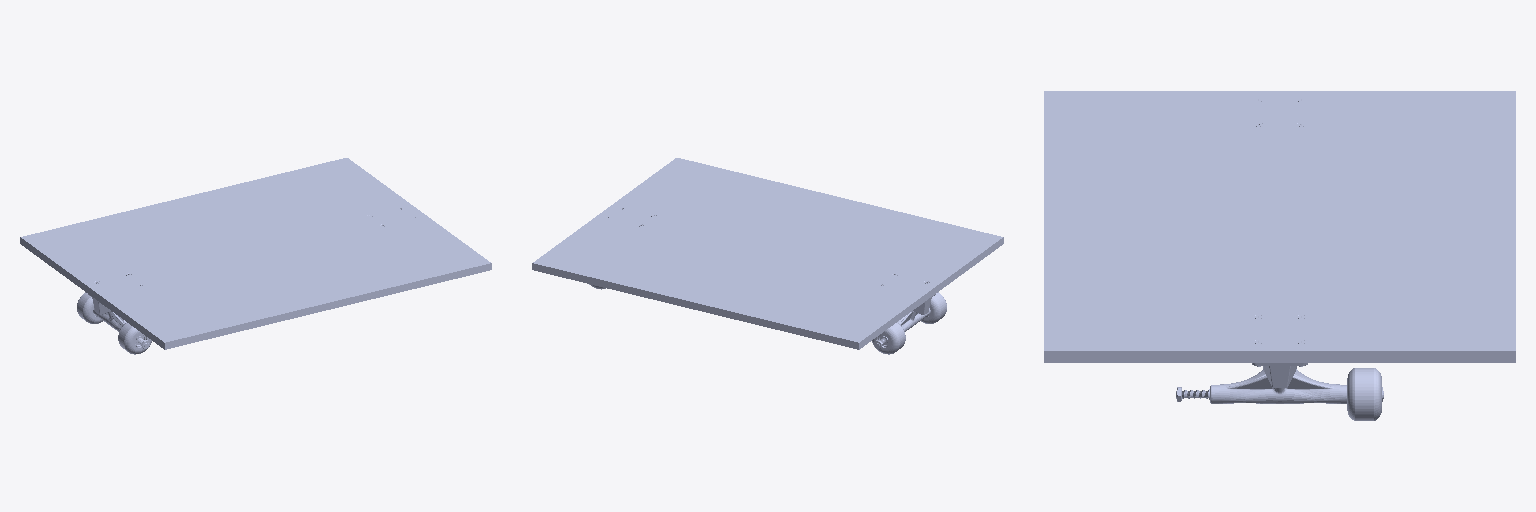
URDF robot description (Skateboard):
<?xml version="1.0" encoding="utf-8"?>
<!-- This URDF was automatically created by SolidWorks to URDF Exporter! Originally created by [author] ([email redacted]) 
     Commit Version: 1.6.0-4-g7f85cfe  Build Version: 1.6.7995.38578
     For more information, please see http://wiki.ros.org/sw_urdf_exporter -->
<robot
  name="Skateboard">
  <link
    name="base_link">
    <inertial>
      <origin
        xyz="-3.90900970040696E-07 1.65554556660567E-08 0.0803398063222811"
        rpy="0 0 0" />
      <mass
        value="1.87355927123978" />
      <inertia
        ixx="0.00903114129612671"
        ixy="-1.58213084430304E-08"
        ixz="-4.399022323366E-09"
        iyy="0.0474941673494156"
        iyz="1.8618547459719E-10"
        izz="0.0564670480761005" />
    </inertial>
    <visual>
      <origin
        xyz="0 0 0"
        rpy="0 0 0" />
      <geometry>
        <mesh
          filename="package://Skateboard/meshes/base_link.STL" />
      </geometry>
      <material
        name="">
        <color
          rgba="0.792156862745098 0.819607843137255 0.933333333333333 1" />
      </material>
    </visual>
    <collision>
      <origin
        xyz="0 0 0"
        rpy="0 0 0" />
      <geometry>
        <mesh
          filename="package://Skateboard/meshes/base_link.STL" />
      </geometry>
    </collision>
  </link>
  <link
    name="tr0">
    <inertial>
      <origin
        xyz="-0.00394785875464684 1.37510124957975E-05 0.00254298733552262"
        rpy="0 0 0" />
      <mass
        value="0.054711382215971" />
      <inertia
        ixx="7.61776062793999E-05"
        ixy="4.24208360983496E-09"
        ixz="-1.67941899830751E-07"
        iyy="6.50792133855701E-06"
        iyz="3.53198528592784E-09"
        izz="7.70651806985149E-05" />
    </inertial>
    <visual>
      <origin
        xyz="0 0 0"
        rpy="0 0 0" />
      <geometry>
        <mesh
          filename="package://Skateboard/meshes/tr0.STL" />
      </geometry>
      <material
        name="">
        <color
          rgba="0.792156862745098 0.819607843137255 0.933333333333333 1" />
      </material>
    </visual>
    <collision>
      <origin
        xyz="0 0 0"
        rpy="0 0 0" />
      <geometry>
        <mesh
          filename="package://Skateboard/meshes/tr0.STL" />
      </geometry>
    </collision>
  </link>
  <joint
    name="trj0"
    type="revolute">
    <origin
      xyz="0.248451238407881 0 0.0249999999999996"
      rpy="0 0.380444263902653 0" />
    <parent
      link="base_link" />
    <child
      link="tr0" />
    <axis
      xyz="0 0 -1" />
    <limit
      lower="-0.227799"
      upper="0.227799"
      effort="0"
      velocity="0" />
  </joint>
  <link
    name="wh0">
    <inertial>
      <origin
        xyz="0 -3.7470027081099E-16 -6.24847396046846E-15"
        rpy="0 0 0" />
      <mass
        value="0.0490782123073816" />
      <inertia
        ixx="1.14097578389298E-05"
        ixy="-2.95578023787108E-23"
        ixz="5.51817720020061E-24"
        iyy="1.63120870051882E-05"
        iyz="5.05450120212838E-22"
        izz="1.14097578389298E-05" />
    </inertial>
    <visual>
      <origin
        xyz="0 0 0"
        rpy="0 0 0" />
      <geometry>
        <mesh
          filename="package://Skateboard/meshes/wh0.STL" />
      </geometry>
      <material
        name="">
        <color
          rgba="0.792156862745098 0.819607843137255 0.933333333333333 1" />
      </material>
    </visual>
    <collision>
      <origin
        xyz="0 0 0"
        rpy="0 0 0" />
      <geometry>
        <mesh
          filename="package://Skateboard/meshes/wh0.STL" />
      </geometry>
    </collision>
  </link>
  <joint
    name="whj0"
    type="continuous">
    <origin
      xyz="0 -0.079 0"
      rpy="-3.1416 -0.38044 0" />
    <parent
      link="tr0" />
    <child
      link="wh0" />
    <axis
      xyz="0 -1 0" />
  </joint>
  <link
    name="wh1">
    <inertial>
      <origin
        xyz="0 -4.16333634234434E-16 -6.21377949094892E-15"
        rpy="0 0 0" />
      <mass
        value="0.0490782123073816" />
      <inertia
        ixx="1.14097578389298E-05"
        ixy="-2.95578023787108E-23"
        ixz="5.50508017383537E-24"
        iyy="1.63120870051882E-05"
        iyz="5.04008068678283E-22"
        izz="1.14097578389298E-05" />
    </inertial>
    <visual>
      <origin
        xyz="0 0 0"
        rpy="0 0 0" />
      <geometry>
        <mesh
          filename="package://Skateboard/meshes/wh1.STL" />
      </geometry>
      <material
        name="">
        <color
          rgba="0.792156862745098 0.819607843137255 0.933333333333333 1" />
      </material>
    </visual>
    <collision>
      <origin
        xyz="0 0 0"
        rpy="0 0 0" />
      <geometry>
        <mesh
          filename="package://Skateboard/meshes/wh1.STL" />
      </geometry>
    </collision>
  </link>
  <joint
    name="whj1"
    type="continuous">
    <origin
      xyz="0 0.079 0"
      rpy="-3.1416 -0.38044 0" />
    <parent
      link="tr0" />
    <child
      link="wh1" />
    <axis
      xyz="0 -1 0" />
  </joint>
  <link
    name="tr1">
    <inertial>
      <origin
        xyz="-0.00394785564541764 1.37474025140887E-05 0.0025429982740449"
        rpy="0 0 0" />
      <mass
        value="0.0547113523962588" />
      <inertia
        ixx="7.61776015347802E-05"
        ixy="4.24279245655275E-09"
        ixz="-1.67936058589737E-07"
        iyy="6.50790703894931E-06"
        iyz="3.5340498258754E-09"
        izz="7.70651635533687E-05" />
    </inertial>
    <visual>
      <origin
        xyz="0 0 0"
        rpy="0 0 0" />
      <geometry>
        <mesh
          filename="package://Skateboard/meshes/tr1.STL" />
      </geometry>
      <material
        name="">
        <color
          rgba="0.792156862745098 0.819607843137255 0.933333333333333 1" />
      </material>
    </visual>
    <collision>
      <origin
        xyz="0 0 0"
        rpy="0 0 0" />
      <geometry>
        <mesh
          filename="package://Skateboard/meshes/tr1.STL" />
      </geometry>
    </collision>
  </link>
  <joint
    name="trj1"
    type="revolute">
    <origin
      xyz="-0.248451238407882 0 0.025"
      rpy="0 0.380444263902653 3.14159265358979" />
    <parent
      link="base_link" />
    <child
      link="tr1" />
    <axis
      xyz="0 0 -1" />
    <limit
      lower="-0.227799"
      upper="0.227799"
      effort="0"
      velocity="0" />
  </joint>
  <link
    name="wh2">
    <inertial>
      <origin
        xyz="2.13717932240343E-15 0.0159999999999954 8.67361737988404E-17"
        rpy="0 0 0" />
      <mass
        value="0.0490782123073816" />
      <inertia
        ixx="1.14097578389298E-05"
        ixy="-2.91712946886286E-23"
        ixz="-8.02234876879247E-23"
        iyy="1.63120870051882E-05"
        iyz="5.04019026293652E-22"
        izz="1.14097578389298E-05" />
    </inertial>
    <visual>
      <origin
        xyz="0 0 0"
        rpy="0 0 0" />
      <geometry>
        <mesh
          filename="package://Skateboard/meshes/wh2.STL" />
      </geometry>
      <material
        name="">
        <color
          rgba="0.792156862745098 0.819607843137255 0.933333333333333 1" />
      </material>
    </visual>
    <collision>
      <origin
        xyz="0 0 0"
        rpy="0 0 0" />
      <geometry>
        <mesh
          filename="package://Skateboard/meshes/wh2.STL" />
      </geometry>
    </collision>
  </link>
  <joint
    name="whj2"
    type="continuous">
    <origin
      xyz="0 0.063 0"
      rpy="3.1416 0.38044 3.1416" />
    <parent
      link="tr1" />
    <child
      link="wh2" />
    <axis
      xyz="0 -1 0" />
  </joint>
  <link
    name="wh3">
    <inertial>
      <origin
        xyz="2.4980018054066E-15 -0.0160000000000055 4.1286418728248E-16"
        rpy="0 0 0" />
      <mass
        value="0.0490782123073816" />
      <inertia
        ixx="1.14097578389298E-05"
        ixy="4.15744681797579E-22"
        ixz="-1.28506924098295E-23"
        iyy="1.63120870051882E-05"
        iyz="-1.51826352916935E-20"
        izz="1.14097578389298E-05" />
    </inertial>
    <visual>
      <origin
        xyz="0 0 0"
        rpy="0 0 0" />
      <geometry>
        <mesh
          filename="package://Skateboard/meshes/wh3.STL" />
      </geometry>
      <material
        name="">
        <color
          rgba="0.792156862745098 0.819607843137255 0.933333333333333 1" />
      </material>
    </visual>
    <collision>
      <origin
        xyz="0 0 0"
        rpy="0 0 0" />
      <geometry>
        <mesh
          filename="package://Skateboard/meshes/wh3.STL" />
      </geometry>
    </collision>
  </link>
  <joint
    name="whj3"
    type="continuous">
    <origin
      xyz="0 -0.063 0"
      rpy="3.1416 0.38044 3.1416" />
    <parent
      link="tr1" />
    <child
      link="wh3" />
    <axis
      xyz="0 -1 0" />
  </joint>
</robot>

--- What the picture shows (computed from the rendered views, not written in the file) ---
3 views of the same robot in one strip: view 1: azimuth 30°, elevation 25°; view 2: azimuth 150°, elevation 25°; view 3: azimuth 270°, elevation 25° (orthographic).
Model Skateboard with 7 links and 6 joints (2 revolute, 4 continuous), rooted at base_link, posed every joint at zero.
Visible links, largest first — view 1: base_link, wh2; view 2: base_link, wh3; view 3: base_link, tr0, wh1.
Link boxes in pixels (x1,y1,x2,y2): base_link: (20,158,491,349); wh2: (118,323,151,354); base_link: (532,158,1003,349); wh3: (872,323,905,354); base_link: (1044,91,1515,387); tr0: (1176,369,1383,403); wh1: (1347,368,1381,420).
Bounding box of the posed robot: 0.575 × 0.44 × 0.088 m (x, y, z).
6 mesh visuals loaded from 7 distinct referenced files (6 binary STL); not drawn: 1 (reference not matched to a file when rendering).